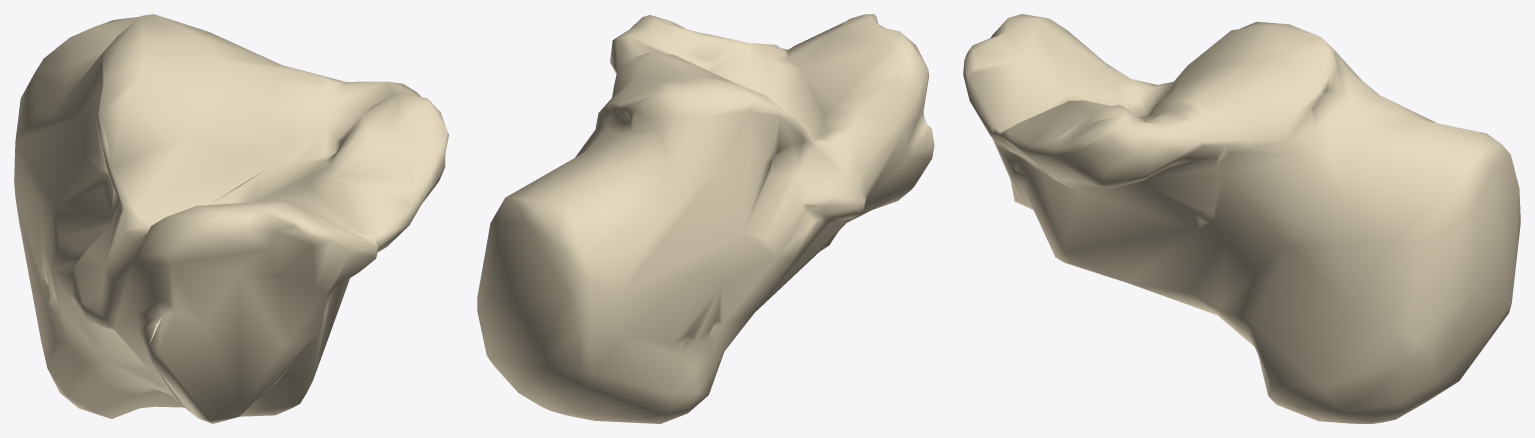
The model's file is esqueleto-calcaneus-r.glb.
The picture shows the model from 3 angles, left to right: view 1: azimuth 30°, elevation 25°; view 2: azimuth 150°, elevation 25°; view 3: azimuth 270°, elevation 25°; orthographic projection. The views are drawn at different scales.
Parts seen in each view (by area): view 1: Calcaneus.r; view 2: Calcaneus.r; view 3: Calcaneus.r.
Boxes of the visible parts, bbox=[...] form: Calcaneus.r: bbox=[14, 14, 448, 423]; Calcaneus.r: bbox=[477, 14, 934, 423]; Calcaneus.r: bbox=[963, 14, 1520, 423].
Size of the model in its own units: 0.0475 by 0.0511 by 0.0757.
